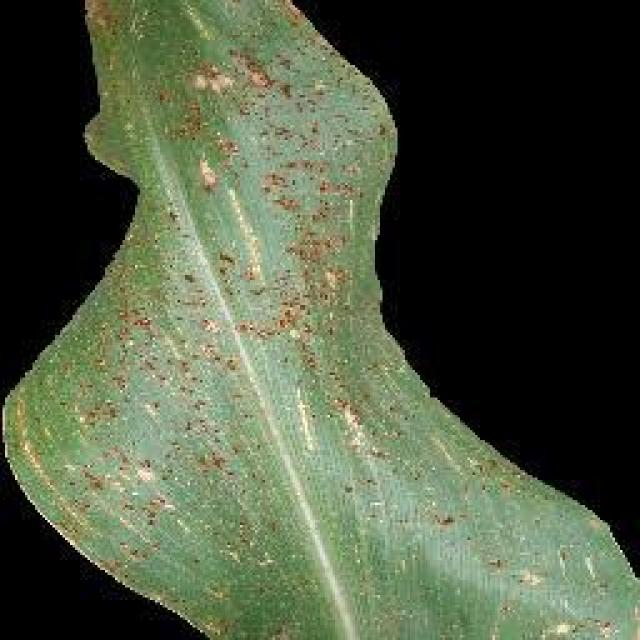Corn Common Rust: (30, 52, 468, 580)
